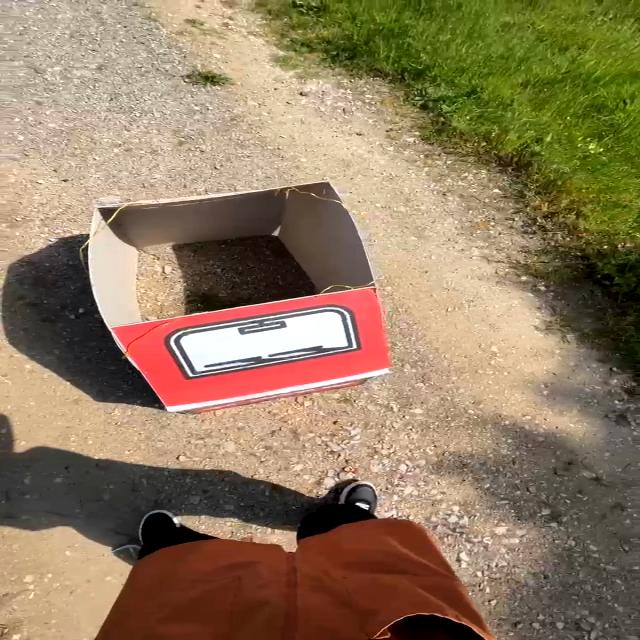red_car: (51, 164, 444, 443)
